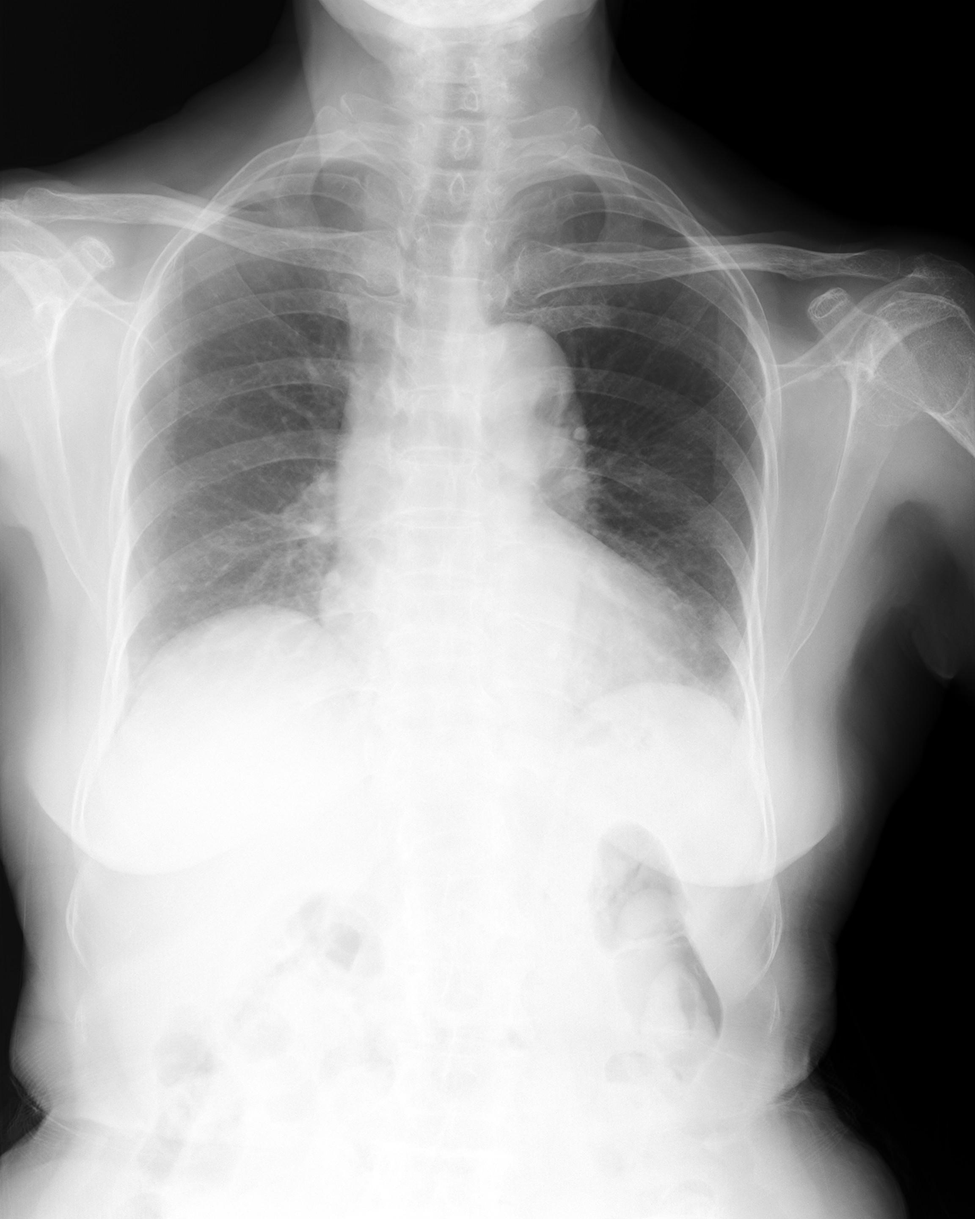Aortic enlargement: (465, 328, 578, 422)
Cardiomegaly: (320, 574, 698, 689)
Pleural thickening: (93, 621, 138, 761), (724, 642, 770, 774)
